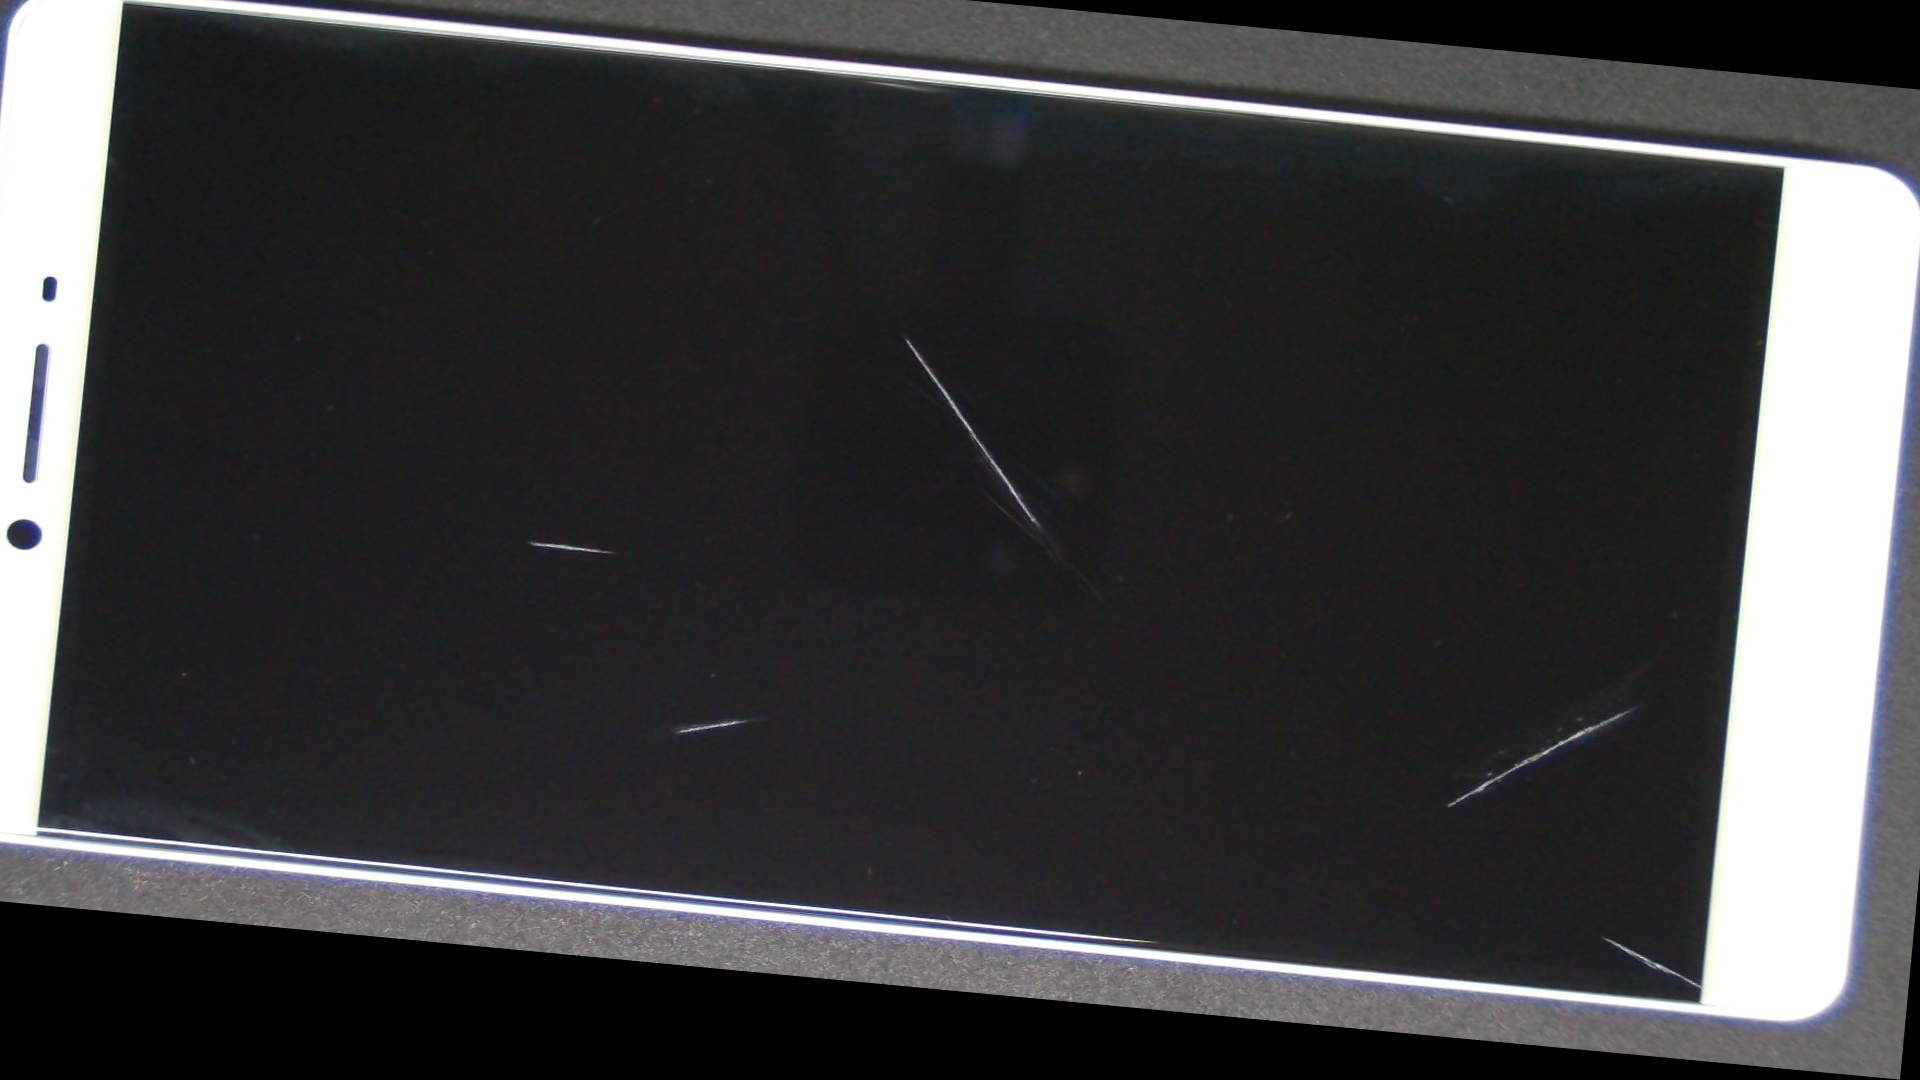oil: (745, 306, 1920, 1051), (735, 421, 1920, 1080), (294, 311, 1185, 1007), (405, 121, 1406, 551), (195, 222, 865, 860)
